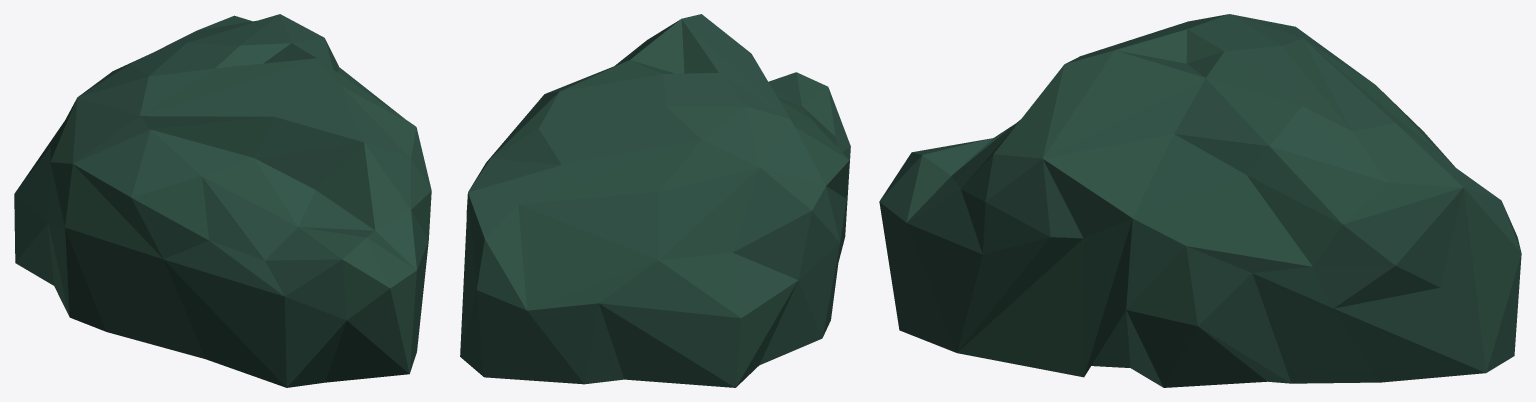
The model's file is SM_large_rock_04.fbx.
3 views of the same model, side by side, from view 1: azimuth 30°, elevation 25°; view 2: azimuth 150°, elevation 25°; view 3: azimuth 270°, elevation 25° (orthographic). The views are drawn at different scales.
Parts seen in each view (by area): view 1: large_rock_04; view 2: large_rock_04; view 3: large_rock_04.
Part boxes in pixels (left/top/right/bottom): large_rock_04: left=14, top=14, right=431, bottom=387; large_rock_04: left=460, top=14, right=850, bottom=387; large_rock_04: left=879, top=14, right=1521, bottom=387.
Bounding box in the file's own units: 67.72 × 51.35 × 99.8.
